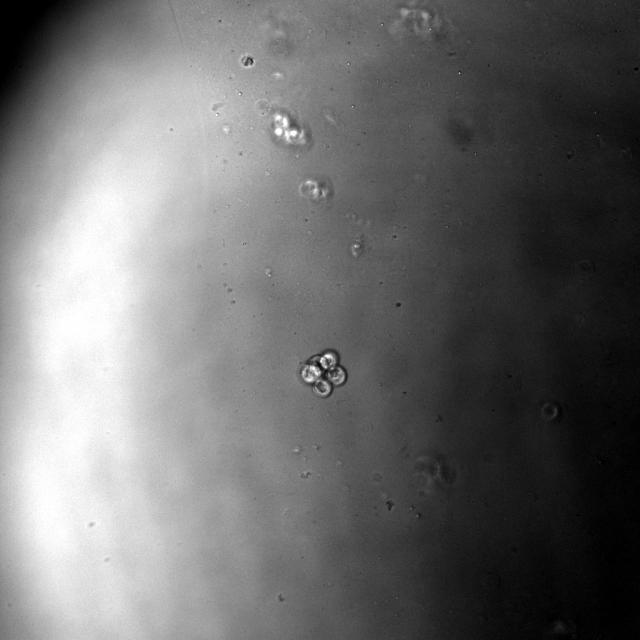organoid: (298, 349, 347, 398), (270, 111, 309, 147)
